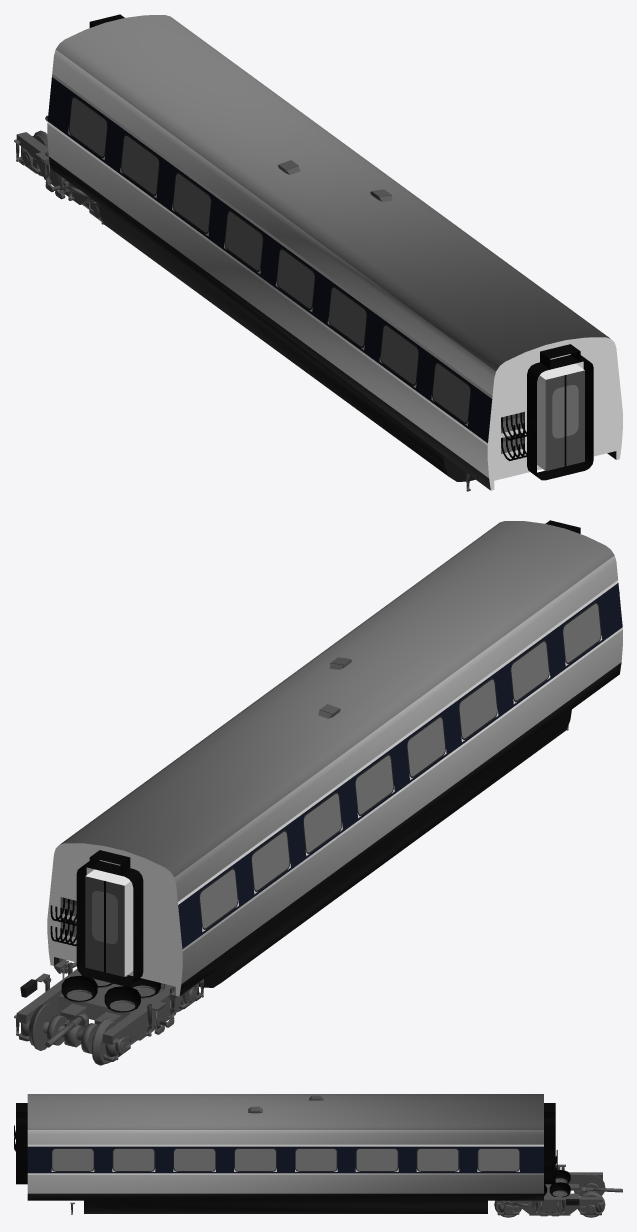
Rendered from DSBIC3_car2.gltf.
3 views of the same model, one above another, from view 1: azimuth 30°, elevation 25°; view 2: azimuth 150°, elevation 25°; view 3: azimuth 270°, elevation 25° (orthographic). The views are drawn at different scales.
Parts seen in each view (by area): view 1: Body FF, Rubber section.001, Interiour door.007, Interiour door.006, Window#A.013, Window#A.015, Window#A.010, Window#A.012, Window#A.014, Window#A.008, Window#A.009, Window#A.011 (+1 smaller); view 2: Body FF, Rubber section, Boggi frame#B.001, Interiour door.010, Interiour door.011, Window#A.011, Window#A.008, Window#A.012, Window#A.013, Window#A.014, Window#A.009, Window#A.010 (+2 smaller); view 3: Body FF, Boggi frame#B.001, Window#A.001, Window#A.002, Window#A.006, Window#A.007, Window#A, Window#A.003, Window#A.004, Window#A.005, Rubber section.001, Rubber section (+3 smaller).
Part boxes in pixels (x1,y1,x2,y2): Body FF: (47, 15, 622, 490); Rubber section.001: (527, 344, 593, 480); Interiour door.007: (545, 375, 565, 470); Interiour door.006: (565, 370, 584, 466); Window#A.013: (327, 284, 367, 349); Window#A.015: (431, 360, 471, 425); Window#A.010: (68, 94, 108, 159); Window#A.012: (275, 246, 315, 311); Window#A.014: (379, 322, 419, 387); Window#A.008: (172, 170, 212, 236); Window#A.009: (120, 132, 160, 197); Window#A.011: (224, 208, 263, 273); Body FF: (47, 521, 622, 996); Rubber section: (76, 850, 143, 986); Boggi frame#B.001: (16, 969, 182, 1044); Interiour door.010: (105, 881, 124, 976); Interiour door.011: (85, 876, 104, 972); Window#A.011: (354, 752, 394, 817); Window#A.008: (302, 790, 342, 855); Window#A.012: (406, 714, 446, 779); Window#A.013: (458, 676, 498, 741); Window#A.014: (510, 638, 550, 703); Window#A.009: (250, 828, 290, 893); Window#A.010: (198, 866, 238, 931); Body FF: (27, 1094, 543, 1213); Boggi frame#B.001: (496, 1172, 602, 1214); Window#A.001: (416, 1148, 459, 1171); Window#A.002: (355, 1148, 398, 1171); Window#A.006: (112, 1148, 155, 1171); Window#A.007: (51, 1148, 94, 1171); Window#A: (477, 1148, 519, 1171); Window#A.003: (295, 1148, 337, 1171); Window#A.004: (234, 1148, 276, 1171); Window#A.005: (173, 1148, 215, 1171); Rubber section.001: (16, 1103, 27, 1184); Rubber section: (544, 1103, 555, 1184).
Bounding box in the file's own units: 3.1 × 3.98 × 20.63.
